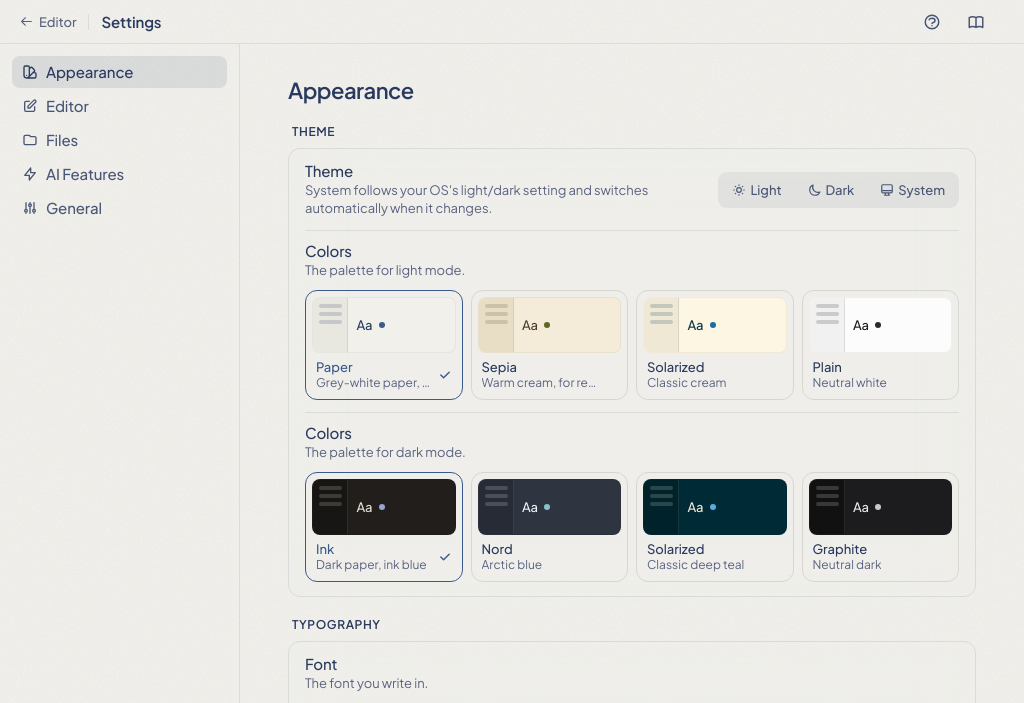
Test case: SettingsPage › renders editor settings options
What coordinates should you click on to do the following:
click the 2nd button "Editor"
I would click on:
 (120, 106)
Its box is [12,90,227,122].
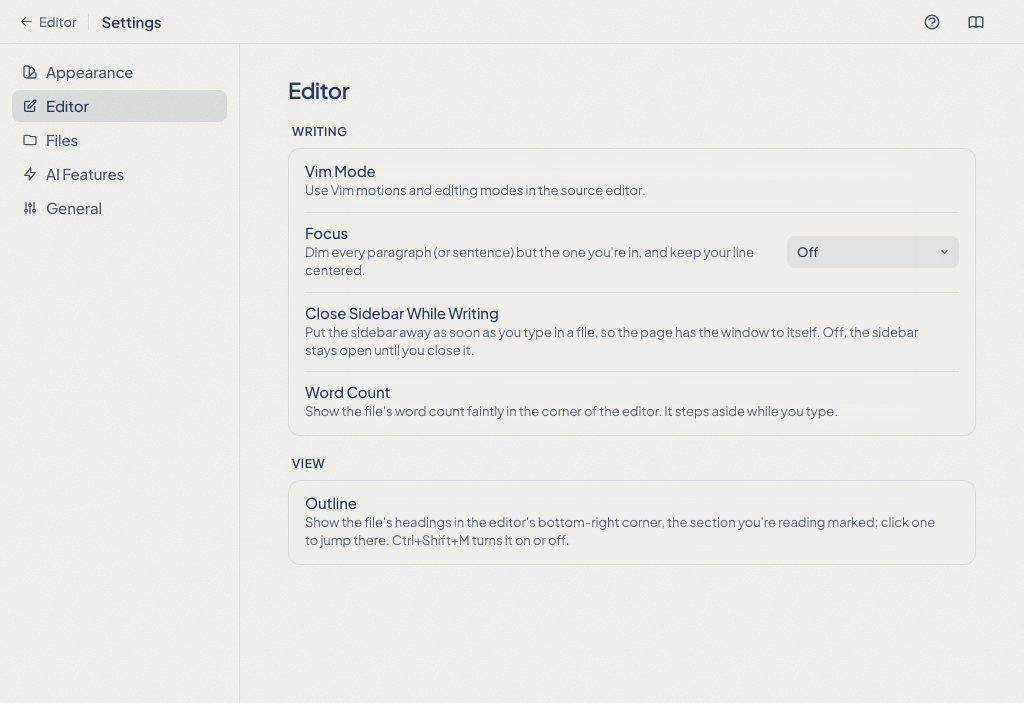
Expected: the text "Vim Mode" is shown, [305,161,376,180]
Expected: the text "Word Count" is shown, [305,382,390,401]
Expected: the text "Close Sidebar While Writing" is shown, [305,303,499,322]
